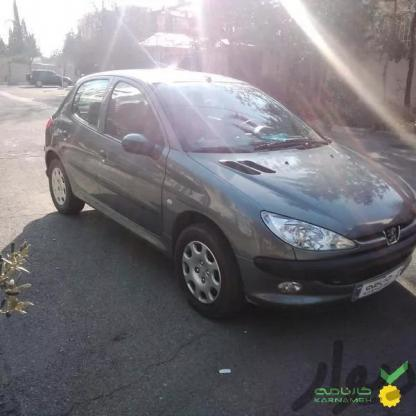Car: (45, 64, 416, 330), (28, 62, 64, 88)
